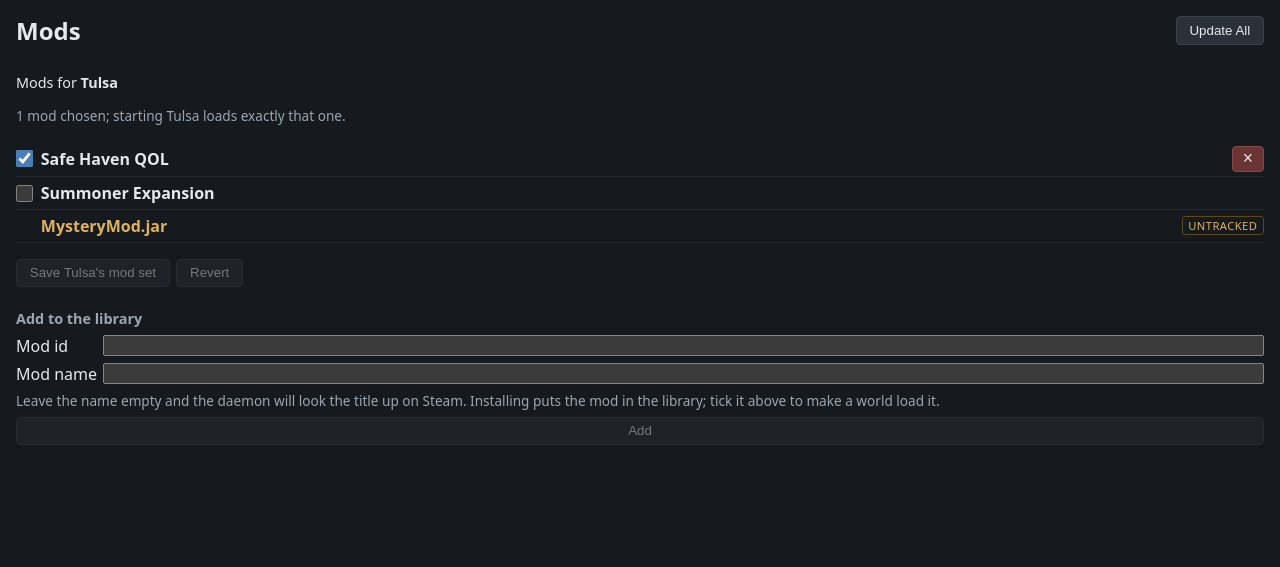
Scenario: ModsPanel changing a set › shows the daemon's own refusal, not a reworded one
Click the checkbox labelled "Summoner Expansion".
click(24, 193)  # box [16, 185, 33, 202]
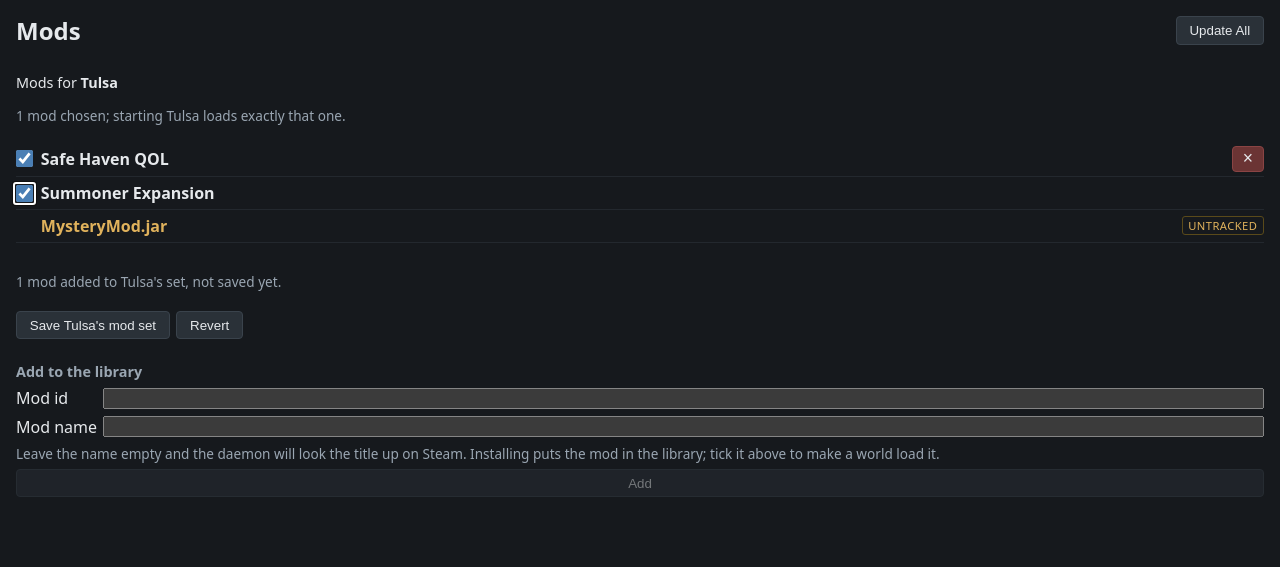
Click the button "Save Tulsa's mod set".
click(93, 325)  # box [16, 311, 170, 339]
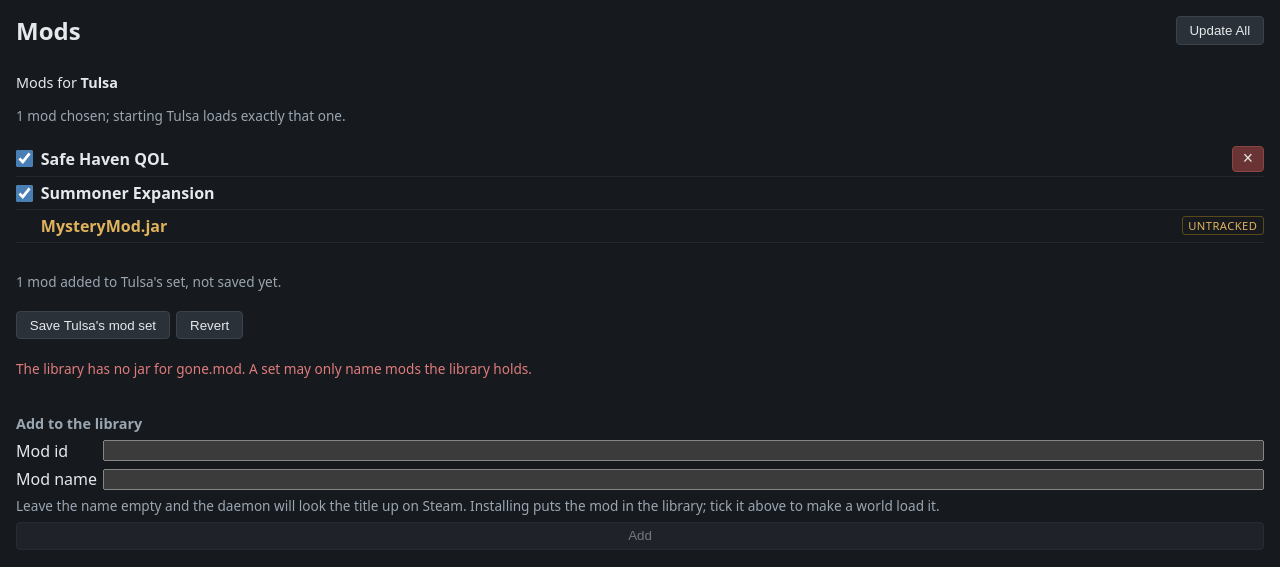
Check: the text "The library has no jar for gone.mod. A set may only name mods the library holds." is shown, box [16, 359, 532, 378]
